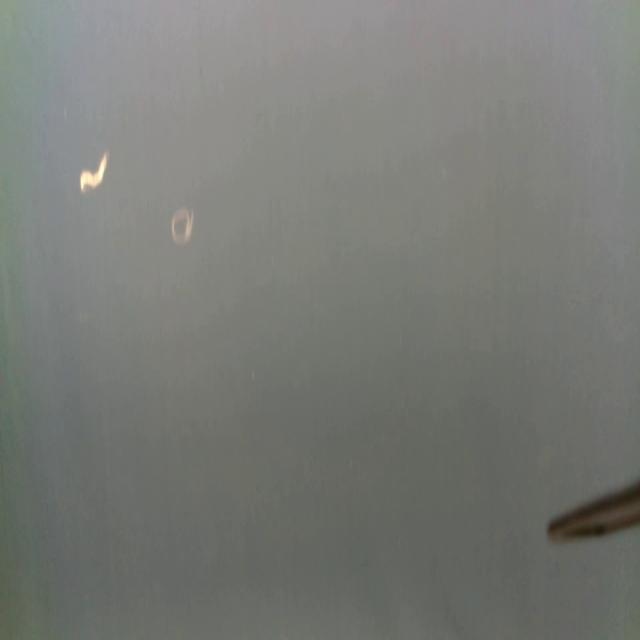hole: (78, 151, 109, 194)
